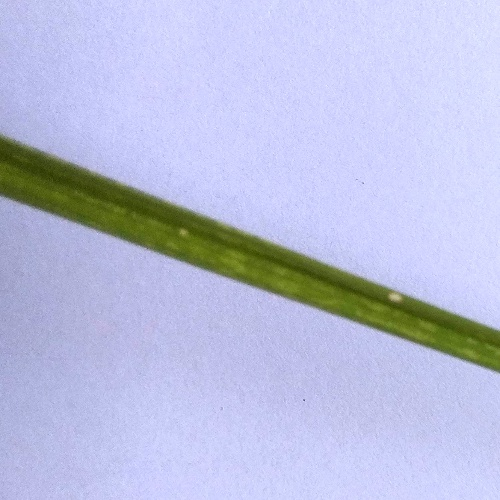Busuk Leher: (379, 283, 412, 309)
